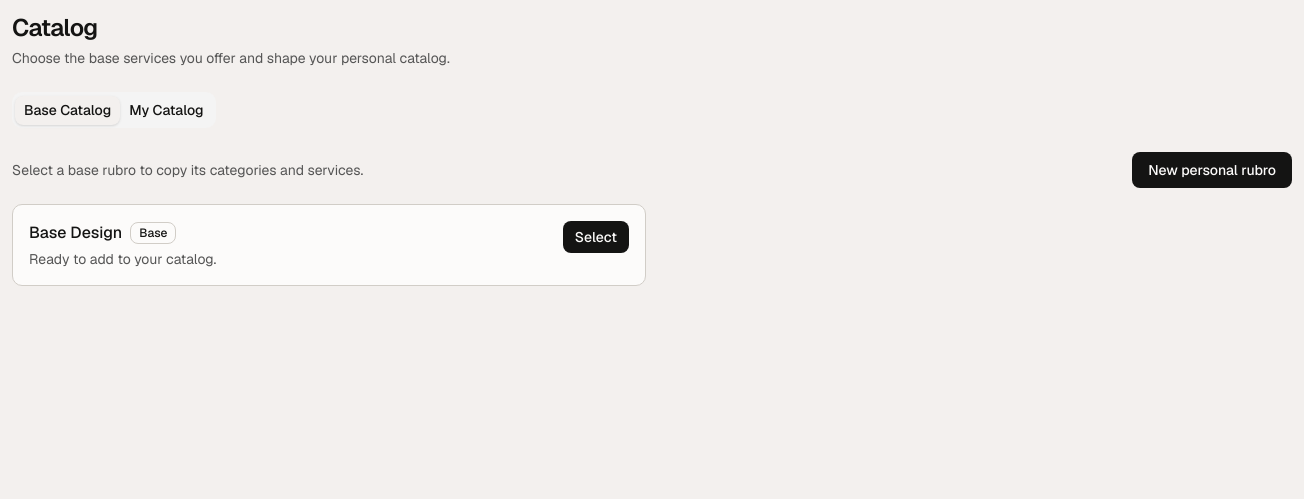
Test: CatalogoPage — admin role-coherent rendering › keeps the personalization affordances for a non-admin user
The image size is (1304, 499).
Expected: the heading "Base Design" is shown, [29,221,122,245]
Expected: the button "Select" is shown, [563,221,629,253]
Click the tab "My Catalog": click(166, 110) [120,96,212,124]
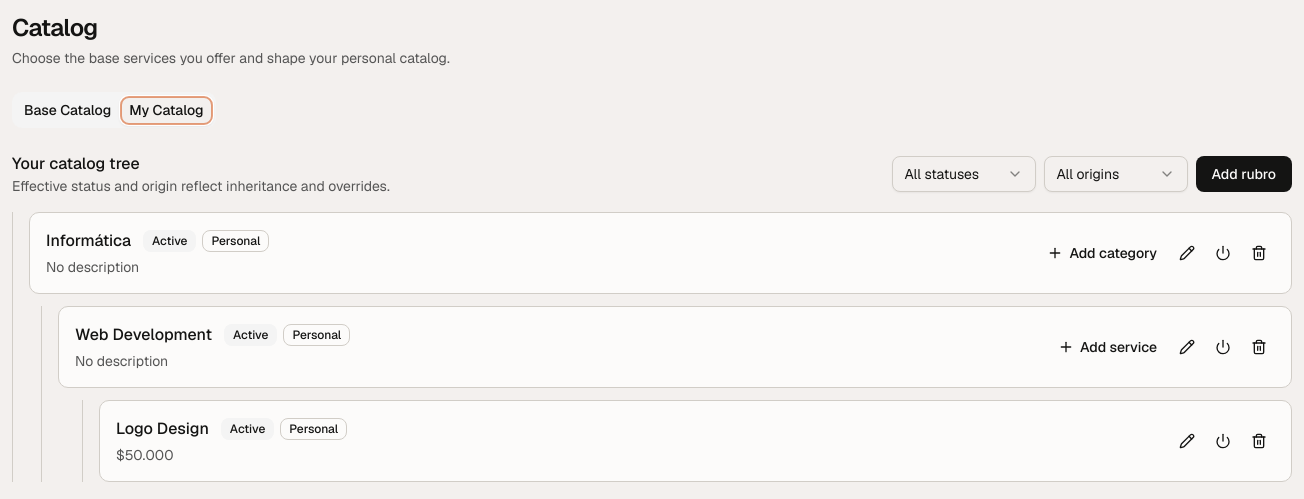
Expected: the heading "Informática" is shown, [46,229,131,253]
Expected: the button "Add category" is shown, [1037,237,1167,269]
Expected: the button named "Edit Web Development" is shown, [1171,331,1203,363]
